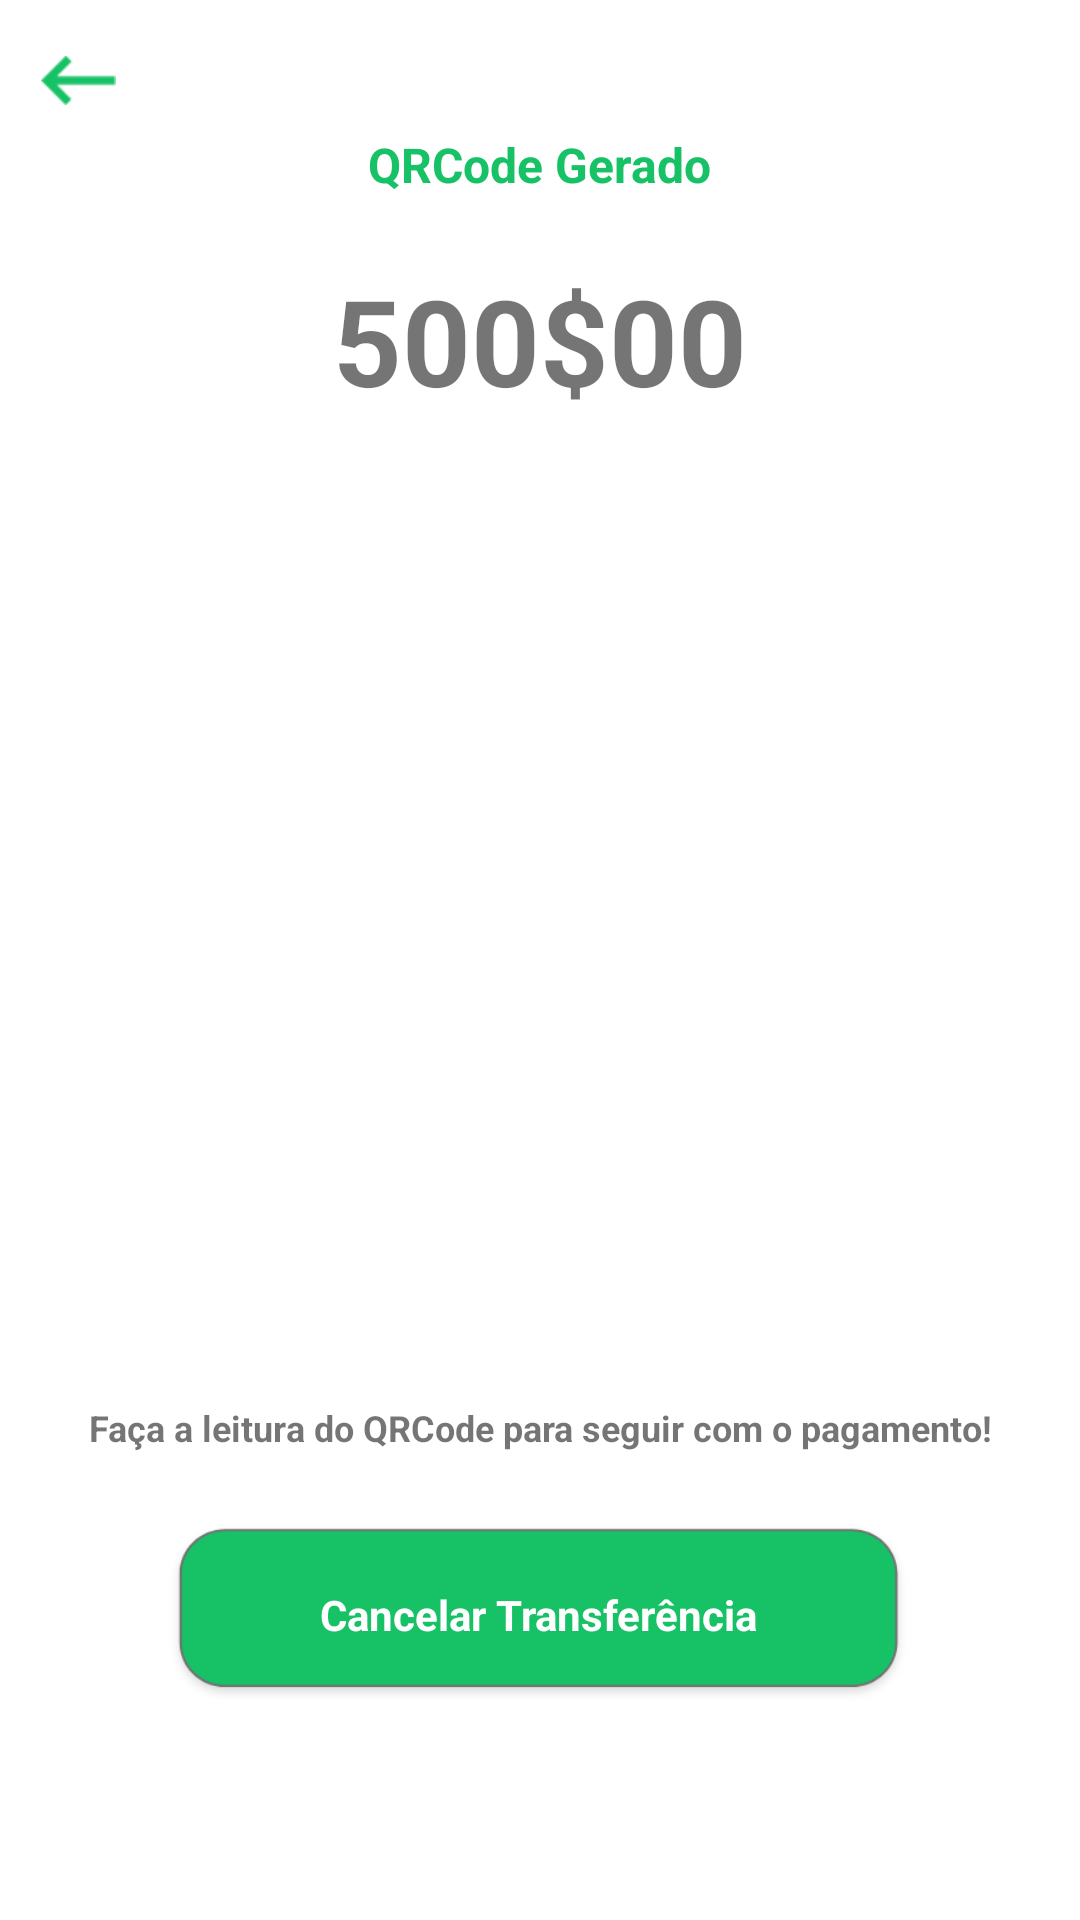

Point at icon controls on the screen. Image size 1080 × 1920, points as (x,y).
arrow: (78,80)
